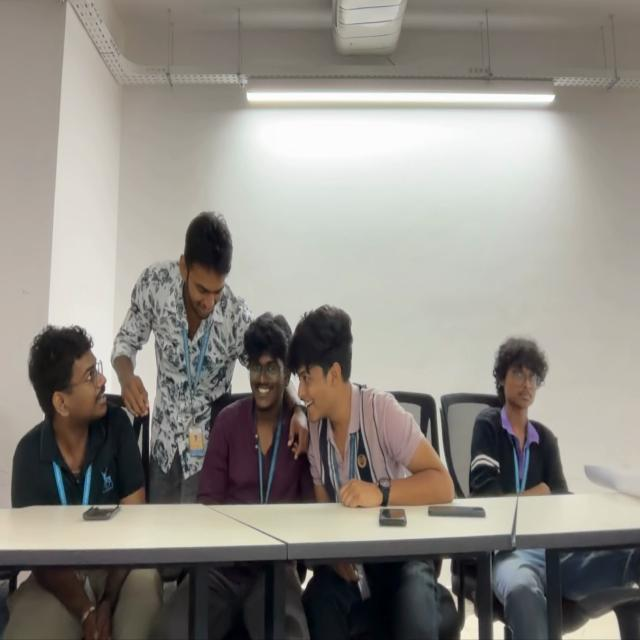Isolated: (470, 333, 569, 495)
socializing: (11, 214, 456, 505)
